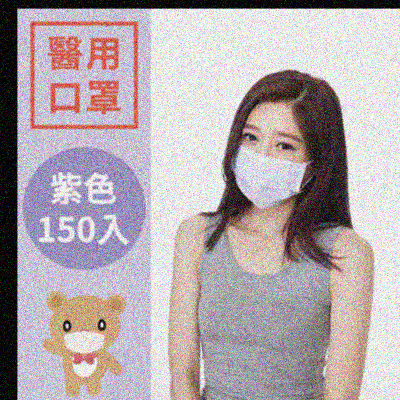with_mask: (231, 120, 315, 208)
